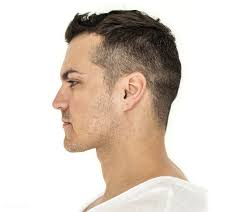s.white: (70, 90, 108, 132)
